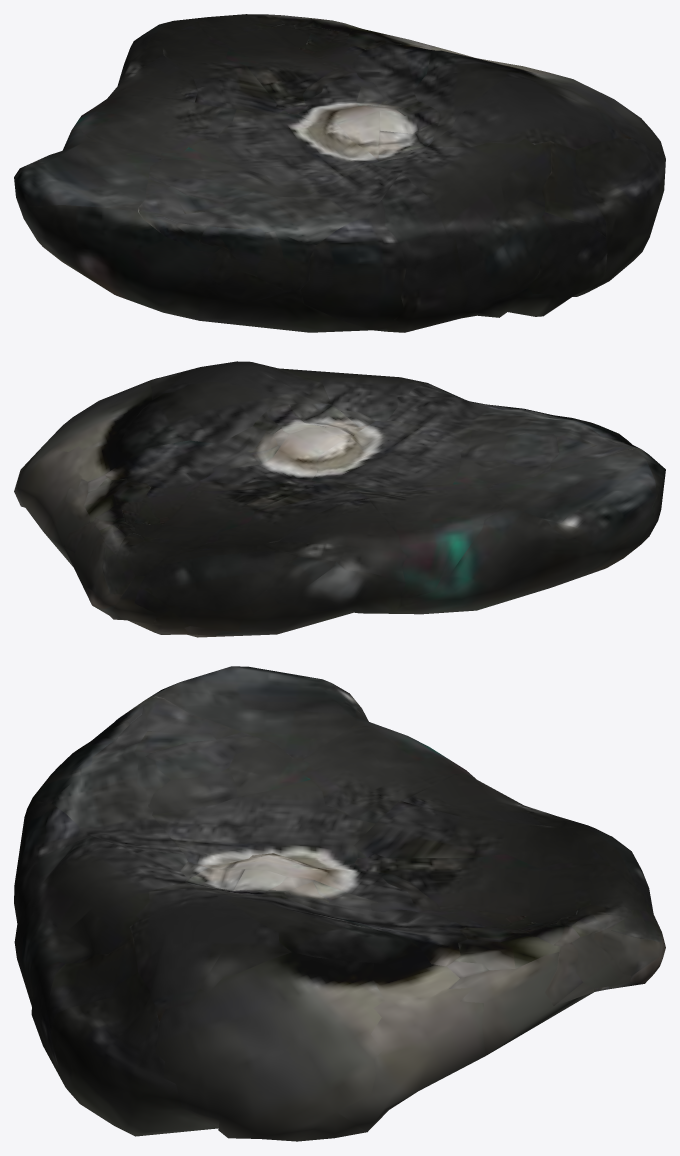
Rendered from hall.glb.
The picture shows the model from 3 angles, top to bottom: view 1: azimuth 30°, elevation 25°; view 2: azimuth 150°, elevation 25°; view 3: azimuth 270°, elevation 25°; orthographic projection. The views are drawn at different scales.
Size of the model in its own units: 0.3327 by 0.0855 by 0.2684.
1 material, 1 textured.
